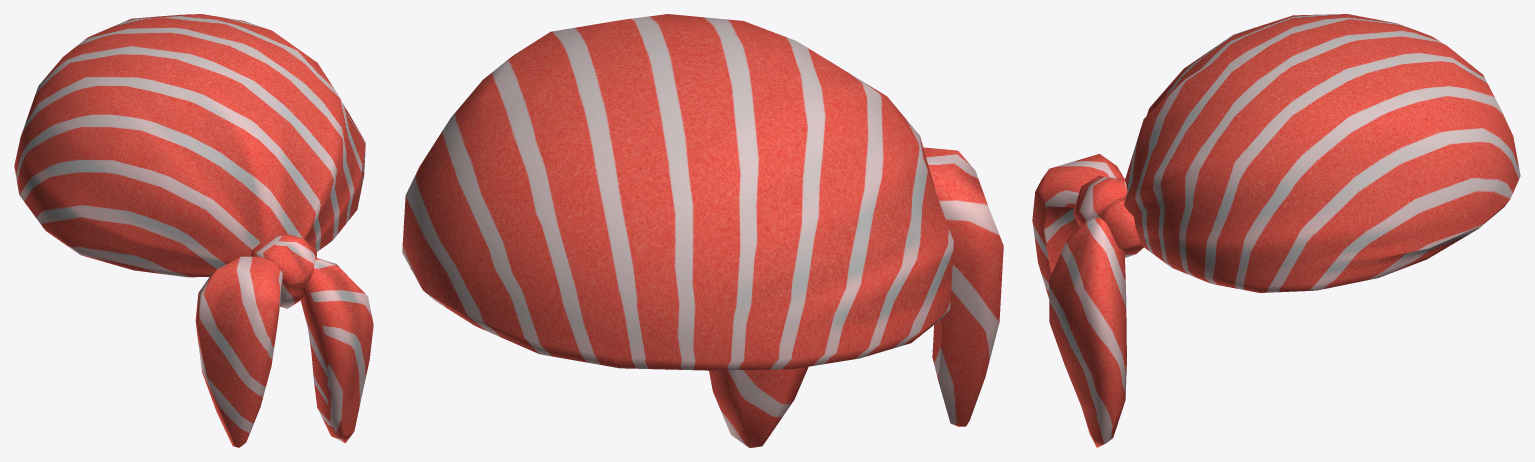
The model's file is IG_Helmat_Island_Headscarf.fbx.
The picture shows the model from 3 angles, left to right: view 1: azimuth 30°, elevation 25°; view 2: azimuth 150°, elevation 25°; view 3: azimuth 270°, elevation 25°; orthographic projection. The views are drawn at different scales.
Parts seen in each view (by area): view 1: Helmets_Headscarf; view 2: Helmets_Headscarf; view 3: Helmets_Headscarf.
Part boxes in pixels (<box>): Helmets_Headscarf: <box>14,14,373,447</box>; Helmets_Headscarf: <box>402,14,1003,447</box>; Helmets_Headscarf: <box>1032,14,1520,447</box>.
Bounding box in the file's own units: 0.5617 × 0.6065 × 0.7051.
